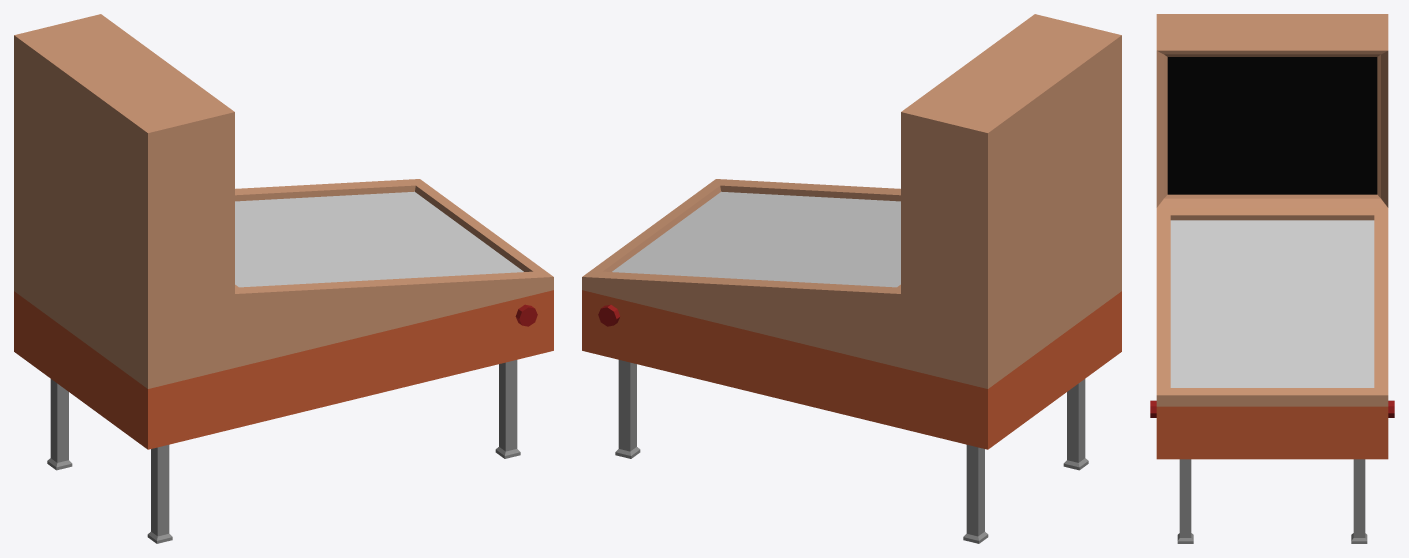
The model's file is PinballMachine.fbx.
3 views of the same model, side by side, from view 1: azimuth 30°, elevation 25°; view 2: azimuth 150°, elevation 25°; view 3: azimuth 270°, elevation 25° (orthographic). The views are drawn at different scales.
Parts seen in each view (by area): view 1: PinballTop, PinballBottom, PinballGame, PinballLeg; view 2: PinballTop, PinballBottom, PinballGame, PinballLeg; view 3: PinballGame, PinballScreen, PinballTop, PinballBottom, PinballLeg.
Boxes of the visible parts, bbox=[...] form: PinballTop: bbox=[14, 14, 553, 388]; PinballBottom: bbox=[14, 290, 553, 449]; PinballGame: bbox=[235, 191, 523, 287]; PinballLeg: bbox=[47, 360, 520, 543]; PinballTop: bbox=[582, 14, 1121, 388]; PinballBottom: bbox=[582, 290, 1121, 449]; PinballGame: bbox=[612, 191, 900, 287]; PinballLeg: bbox=[615, 360, 1088, 543]; PinballGame: bbox=[1170, 220, 1374, 387]; PinballScreen: bbox=[1167, 57, 1377, 194]; PinballTop: bbox=[1156, 14, 1388, 406]; PinballBottom: bbox=[1156, 406, 1388, 459]; PinballLeg: bbox=[1177, 459, 1367, 543].
Size of the model in its own units: 1400 by 1400 by 844.
